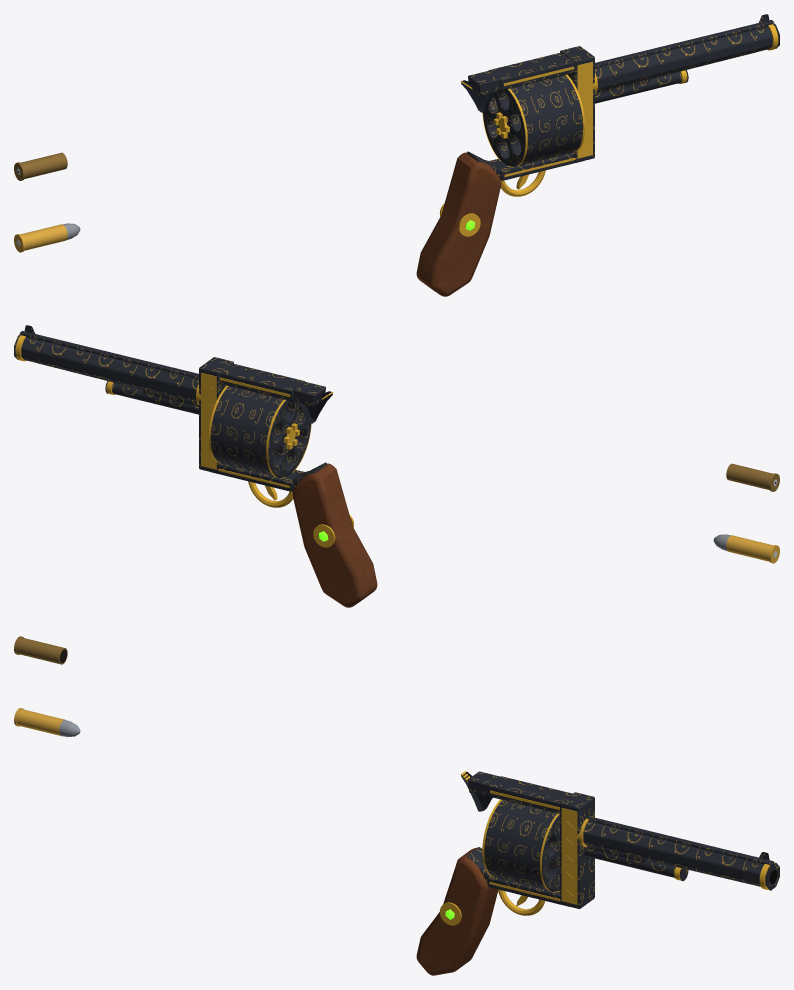
Rendered from revolver.glb.
The picture shows the model from 3 angles, top to bottom: view 1: azimuth 30°, elevation 25°; view 2: azimuth 150°, elevation 25°; view 3: azimuth 330°, elevation 25°; orthographic projection.
Parts seen in each view (by area): view 1: REV_FRAME, REV_GRIP, REV_CYL, REV_FRAME_gold, REV_BULLET, REV_CASE, REV_CYL_gold, REV_guard; view 2: REV_FRAME, REV_GRIP, REV_CYL, REV_FRAME_gold, REV_BULLET, REV_CASE, REV_CYL_gold, REV_guard; view 3: REV_FRAME, REV_CYL, REV_GRIP, REV_FRAME_gold, REV_BULLET, REV_CASE.
Part boxes in pixels (left/top/right/bottom): REV_FRAME: left=467, top=14, right=779, bottom=180; REV_GRIP: left=416, top=152, right=501, bottom=296; REV_CYL: left=483, top=75, right=583, bottom=166; REV_FRAME_gold: left=503, top=24, right=778, bottom=177; REV_BULLET: left=14, top=223, right=80, bottom=252; REV_CASE: left=14, top=152, right=67, bottom=180; REV_CYL_gold: left=482, top=74, right=585, bottom=167; REV_guard: left=500, top=170, right=545, bottom=196; REV_FRAME: left=14, top=325, right=326, bottom=491; REV_GRIP: left=292, top=463, right=377, bottom=607; REV_CYL: left=210, top=386, right=310, bottom=477; REV_FRAME_gold: left=15, top=335, right=290, bottom=488; REV_BULLET: left=713, top=534, right=779, bottom=563; REV_CASE: left=726, top=463, right=779, bottom=491; REV_CYL_gold: left=208, top=385, right=311, bottom=478; REV_guard: left=248, top=481, right=293, bottom=507; REV_FRAME: left=467, top=771, right=779, bottom=908; REV_CYL: left=484, top=800, right=559, bottom=891; REV_GRIP: left=416, top=847, right=497, bottom=975; REV_FRAME_gold: left=489, top=790, right=774, bottom=904; REV_BULLET: left=14, top=708, right=80, bottom=736; REV_CASE: left=14, top=636, right=67, bottom=664.
Size of the model in its own units: 44.18 by 12.9 by 4.4.
11 materials, 2 textured.
